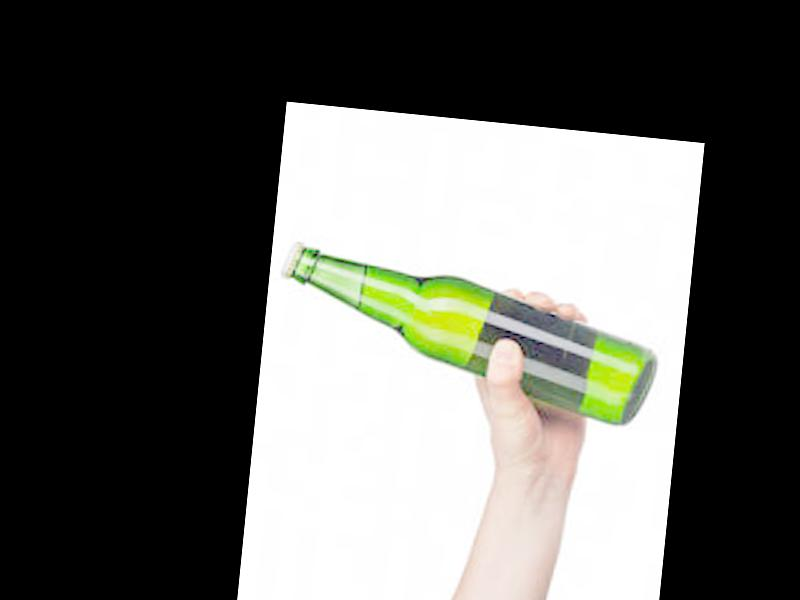Beer: (269, 240, 666, 428)
